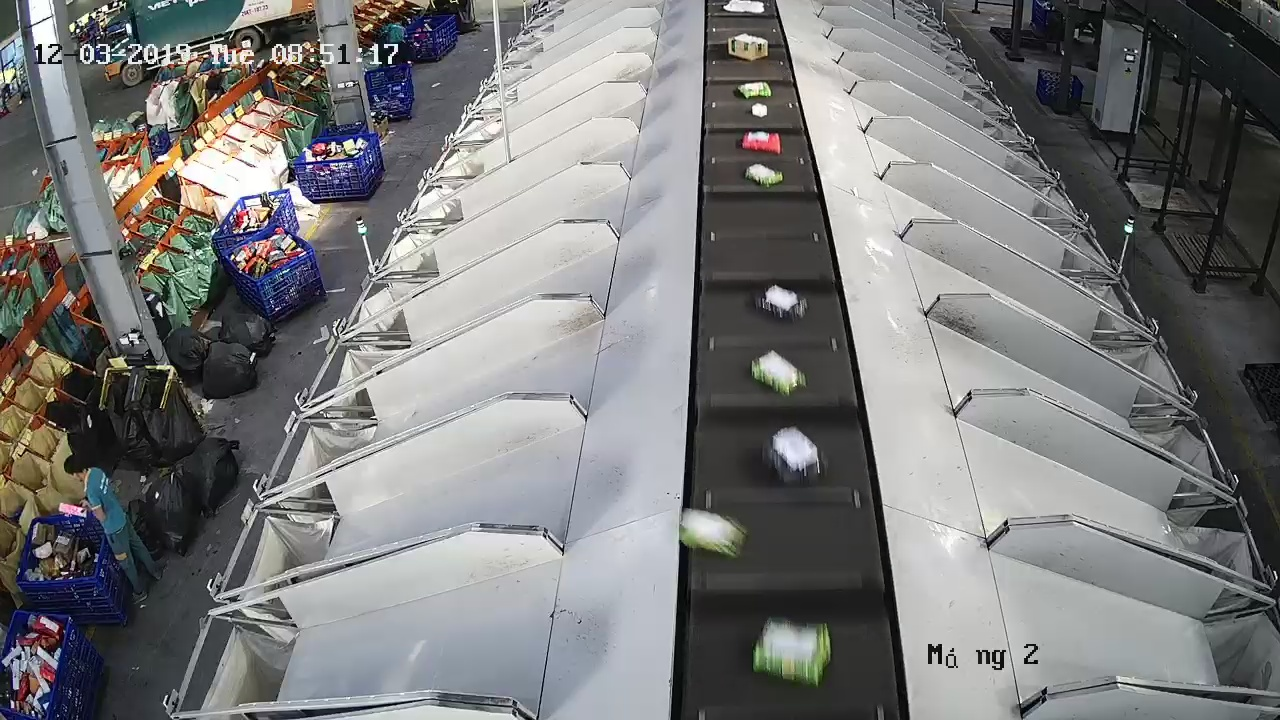parcel: (749, 614, 833, 689), (761, 423, 830, 487), (676, 505, 750, 561), (751, 349, 809, 399), (752, 281, 810, 324), (740, 130, 784, 156), (743, 160, 785, 187)
